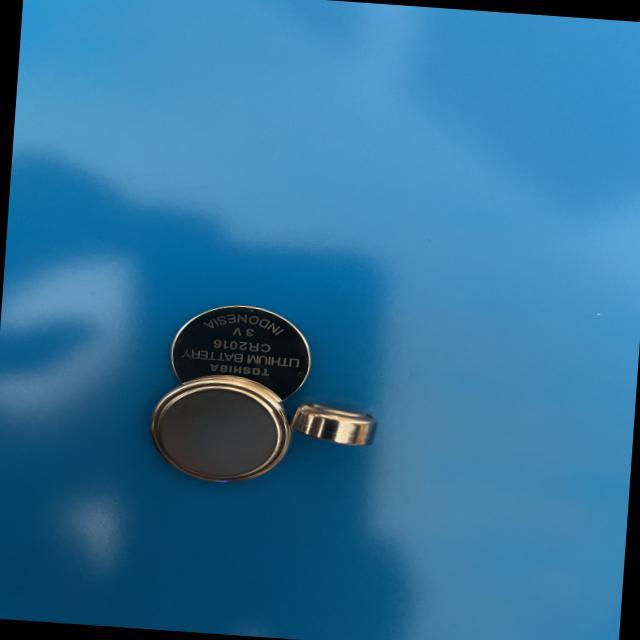COIN: (140, 367, 296, 489), (162, 297, 316, 415), (284, 398, 378, 456)
